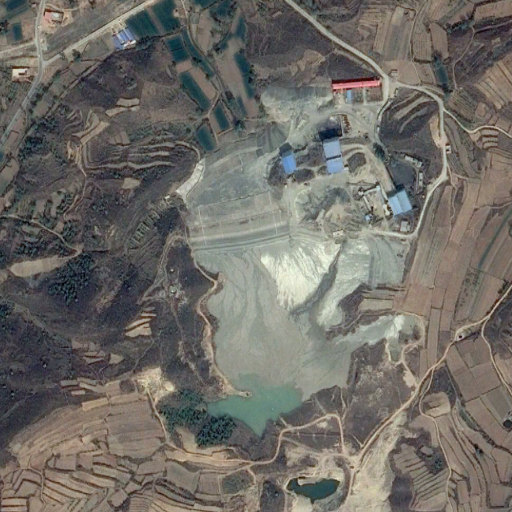tp: (192, 123, 401, 437)
